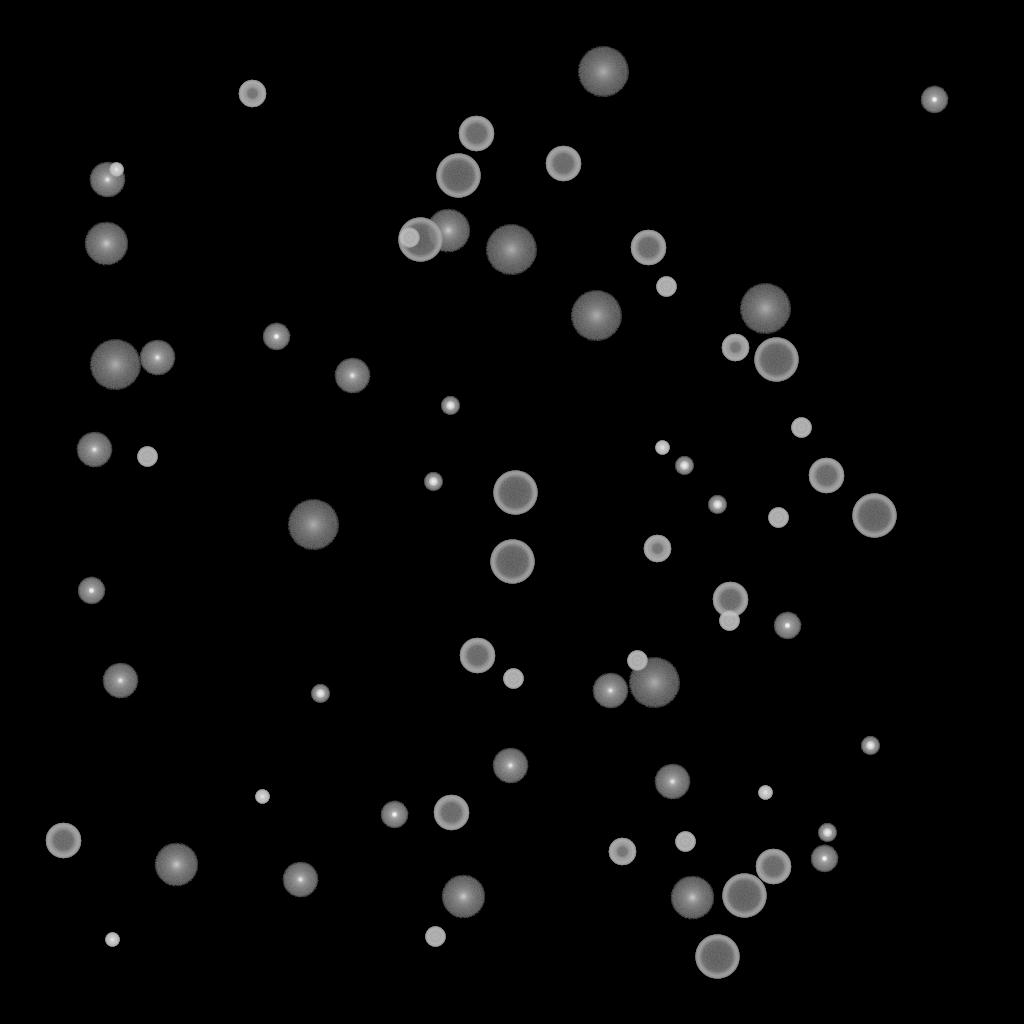depth:-10: (262, 323, 290, 351), (810, 845, 838, 873), (77, 577, 105, 605), (380, 801, 408, 829), (773, 612, 801, 640), (920, 86, 948, 114)
depth:-20: (708, 496, 726, 514), (818, 824, 836, 842), (861, 737, 879, 755), (441, 397, 459, 415), (675, 457, 693, 475), (424, 473, 442, 491), (311, 685, 329, 703)
depth:-30: (758, 786, 772, 800), (105, 933, 119, 947), (109, 163, 123, 177), (255, 790, 269, 804), (655, 441, 669, 455)
depth:-40: (399, 228, 419, 248), (503, 669, 523, 689), (656, 277, 676, 297), (137, 447, 157, 467), (425, 927, 445, 947), (675, 832, 695, 852), (627, 651, 647, 671), (768, 508, 788, 528), (719, 611, 739, 631), (791, 418, 811, 438)
depth:-50: (643, 535, 671, 563), (238, 80, 266, 108), (608, 838, 636, 866), (721, 334, 749, 362)
depth:-60: (755, 849, 791, 885), (458, 116, 494, 152), (45, 823, 81, 859), (459, 638, 495, 674), (712, 582, 748, 618), (630, 230, 666, 266), (433, 795, 469, 831), (808, 458, 844, 494), (545, 146, 581, 182)
depth:-70: (852, 494, 896, 538), (493, 471, 537, 515), (754, 338, 798, 382), (695, 935, 739, 979), (398, 218, 442, 262), (490, 540, 534, 584), (436, 154, 480, 198), (722, 874, 766, 918)
depth:0: (654, 764, 690, 800), (139, 340, 175, 376), (592, 673, 628, 709), (492, 748, 528, 784), (334, 358, 370, 394), (76, 432, 112, 468), (282, 862, 318, 898), (102, 663, 138, 699), (89, 162, 125, 198)
depth:10: (441, 875, 485, 919), (670, 876, 714, 920), (426, 209, 470, 253), (154, 843, 198, 887), (84, 222, 128, 266)
depth:20: (577, 47, 629, 97), (628, 658, 680, 708), (485, 225, 537, 275), (570, 291, 622, 341), (739, 284, 791, 334), (89, 340, 141, 390), (287, 500, 339, 550)
